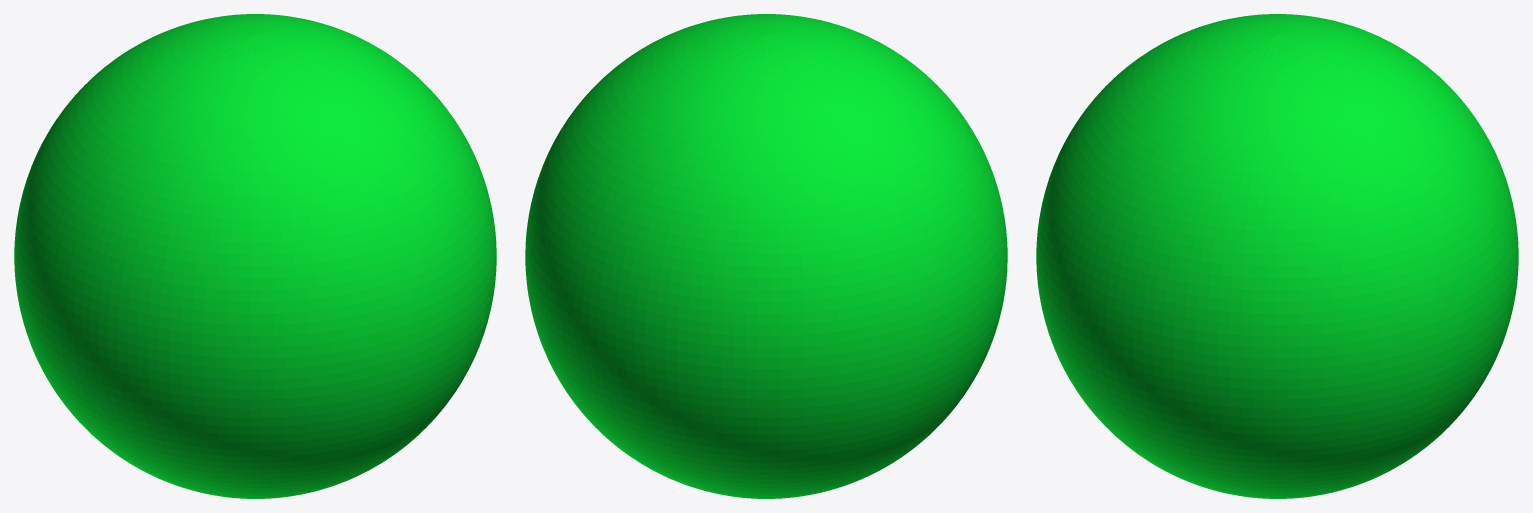
File: BiggerExplotionPowerUp.fbx
The picture shows the model from 3 angles, left to right: view 1: azimuth 30°, elevation 25°; view 2: azimuth 150°, elevation 25°; view 3: azimuth 270°, elevation 25°; orthographic projection.
Parts seen in each view (by area): view 1: Sphere; view 2: Sphere; view 3: Sphere.
Boxes of the visible parts, x1,y1,x2,y2 form: Sphere: (14,14,496,498); Sphere: (525,14,1007,498); Sphere: (1036,14,1518,498).
Size of the model in its own units: 197 by 200 by 197.
